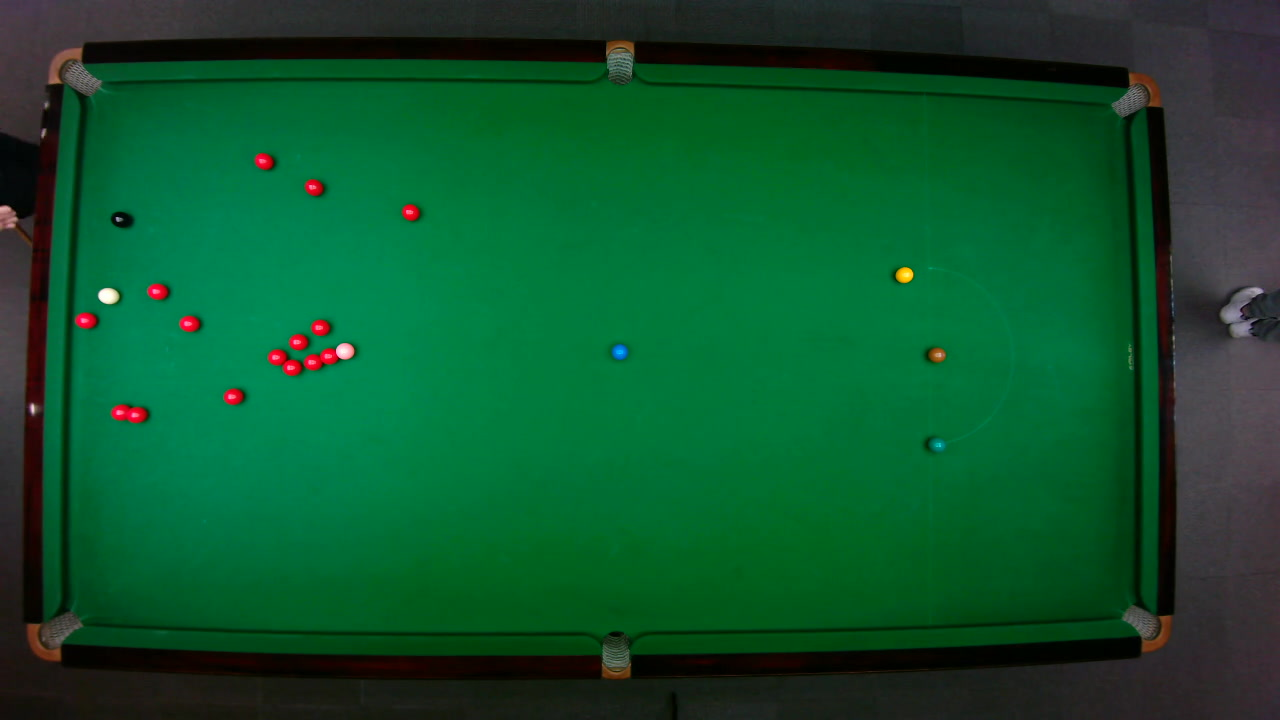bag: (25, 609, 83, 661), (45, 46, 102, 96), (1119, 603, 1172, 652), (1108, 71, 1161, 118), (600, 629, 629, 680), (605, 38, 633, 85)
black: (109, 210, 131, 228)
blue: (609, 342, 628, 360)
brown: (926, 346, 946, 362)
green: (926, 435, 946, 452)
pink: (334, 341, 355, 360)
red: (145, 281, 169, 300), (124, 404, 148, 423), (109, 402, 131, 421), (177, 314, 200, 332), (73, 311, 97, 328), (253, 151, 274, 170), (303, 177, 324, 196), (222, 387, 244, 405), (302, 352, 324, 370), (287, 332, 308, 350), (281, 358, 302, 376), (309, 318, 330, 336), (265, 348, 287, 365), (400, 203, 420, 221), (319, 346, 337, 365)
white: (96, 286, 120, 304)
yellow: (893, 265, 914, 283)
zone: (926, 266, 1013, 444)
